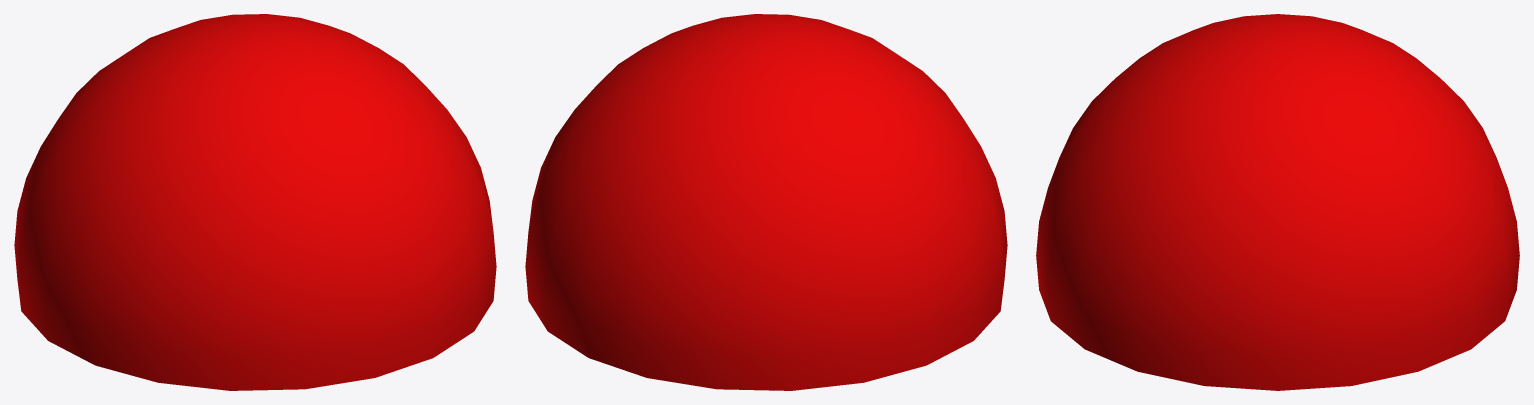
File: Enemy.fbx
3 views of the same model, side by side, from view 1: azimuth 30°, elevation 25°; view 2: azimuth 150°, elevation 25°; view 3: azimuth 270°, elevation 25° (orthographic).
Visible parts, largest first — view 1: pSphere2; view 2: pSphere2; view 3: pSphere2.
Boxes of the visible parts, bbox=[...] form: pSphere2: bbox=[14, 14, 496, 390]; pSphere2: bbox=[525, 14, 1007, 390]; pSphere2: bbox=[1036, 14, 1519, 390].
Size of the model in its own units: 2 by 1.16 by 2.
